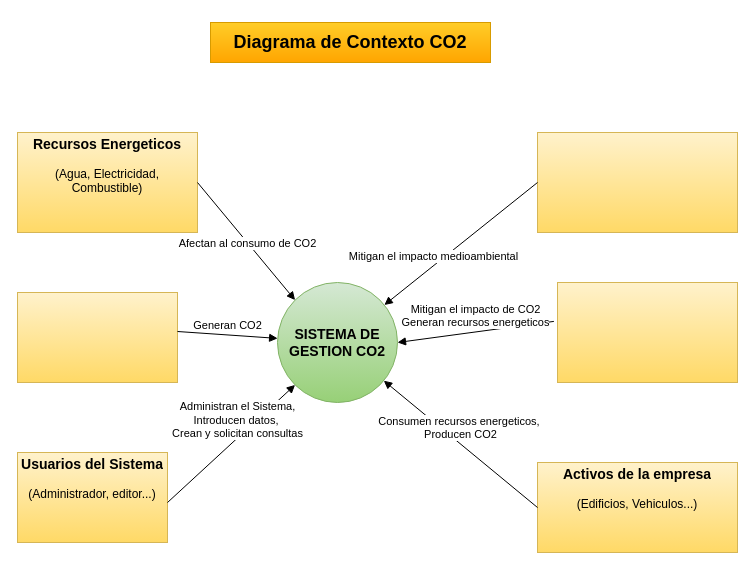
The diagram is 755 pixels wide and 570 high, and some of its shapes have lost their labels. Each missing label, with the box of its shape:
Instalaciones de Generacion de Electricidad (Paneles solares, molinos de viento): (556, 282, 738, 382)
Personal Empresa (Viajes, Actividades, Transporte ...): (16, 292, 178, 382)
Programas de compensacion de CO2: (536, 132, 738, 232)
